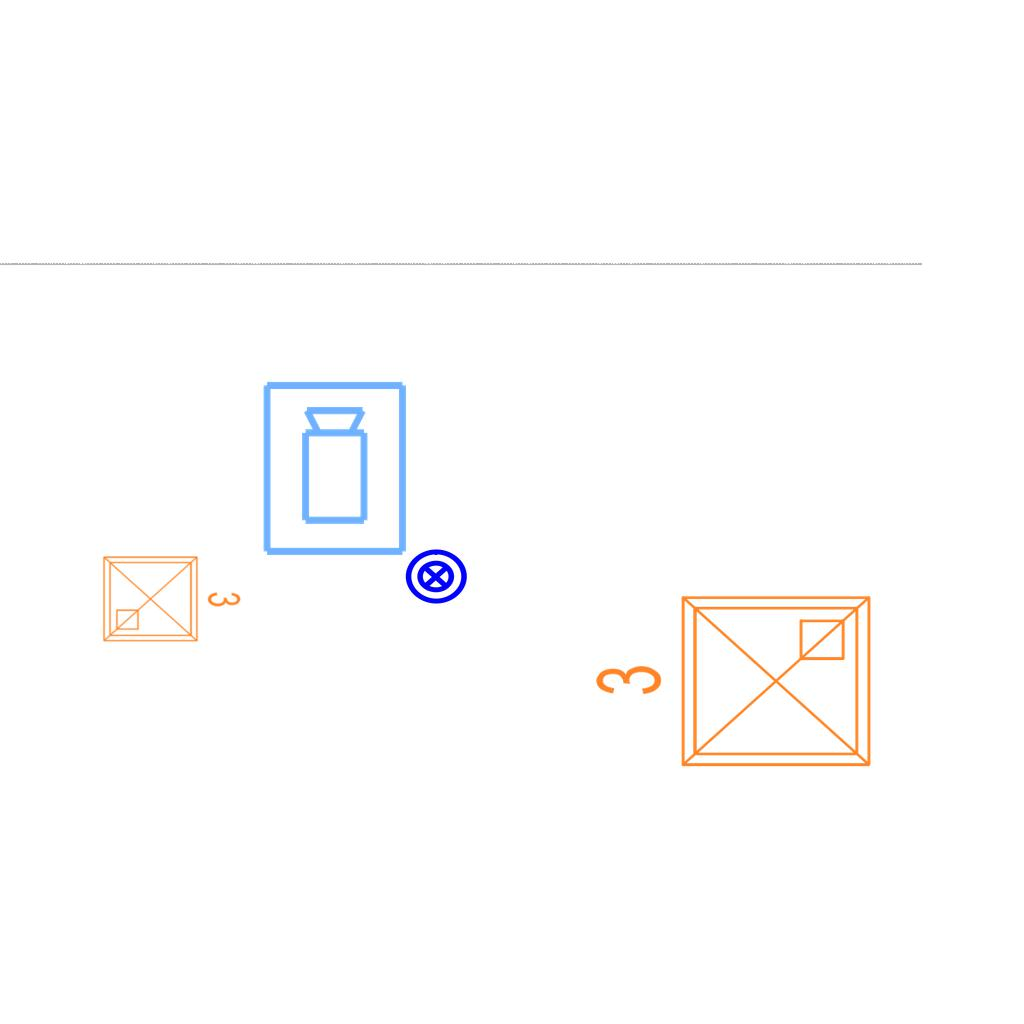Einbaudownlights_LED_Konferenzraeume: (585, 581, 885, 789), (96, 545, 246, 649)
KFO_Kamera_mit_Festobjektiv: (259, 378, 413, 560)
Taster_beleuchtet: (403, 544, 469, 610)
